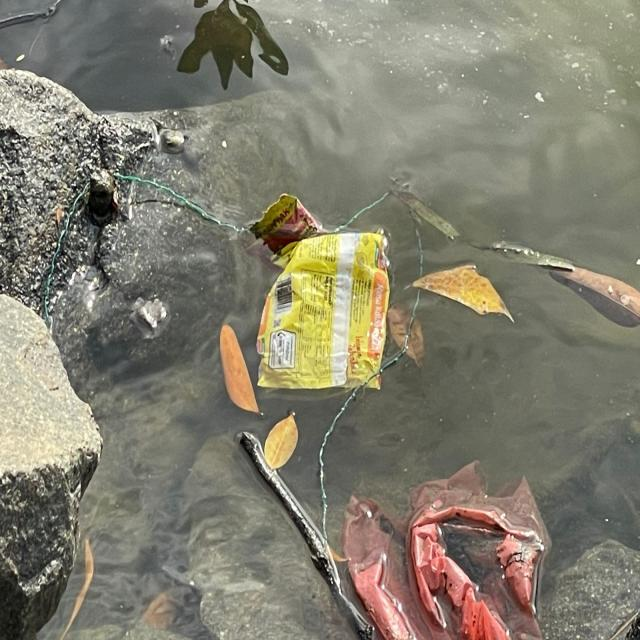Bungkus Makanan: (239, 193, 389, 397)
Kantong Plastik: (340, 457, 549, 640)
